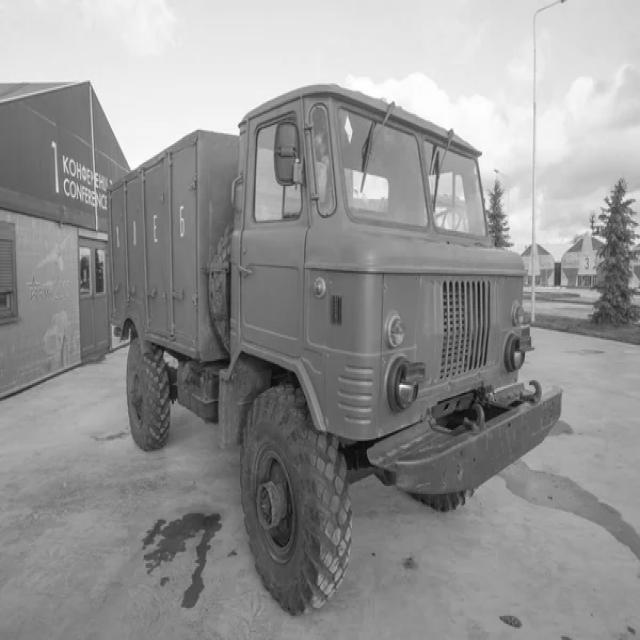Truck: (110, 85, 562, 615)
